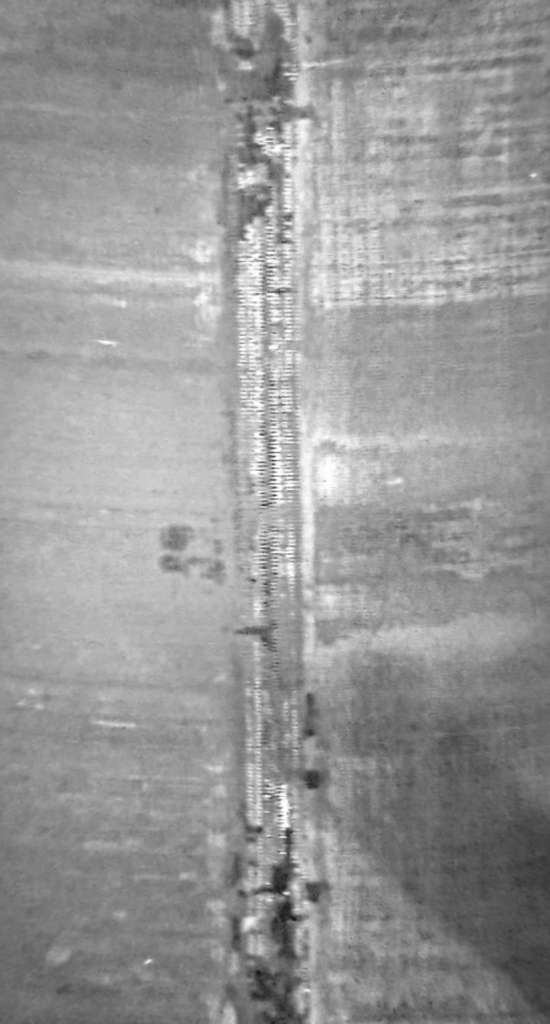splice: (216, 5, 331, 1024)
